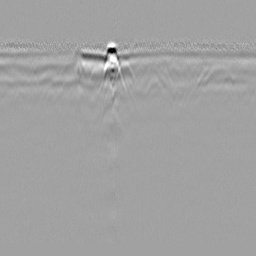cavity: (113, 58, 137, 85)
